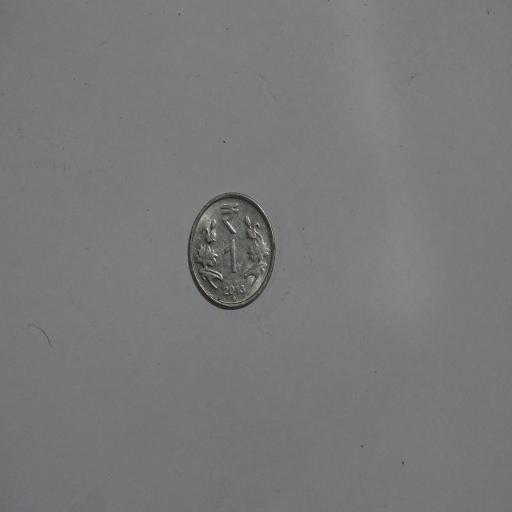rupee1: (185, 188, 280, 312)
